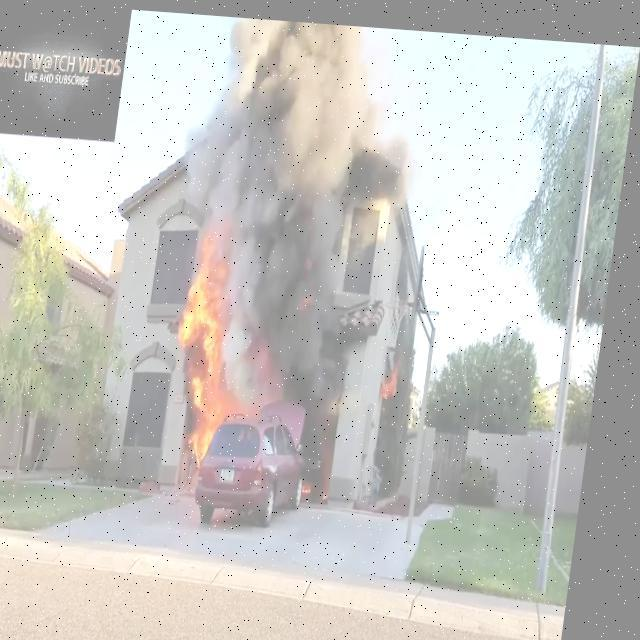Fire: (172, 213, 298, 472)
